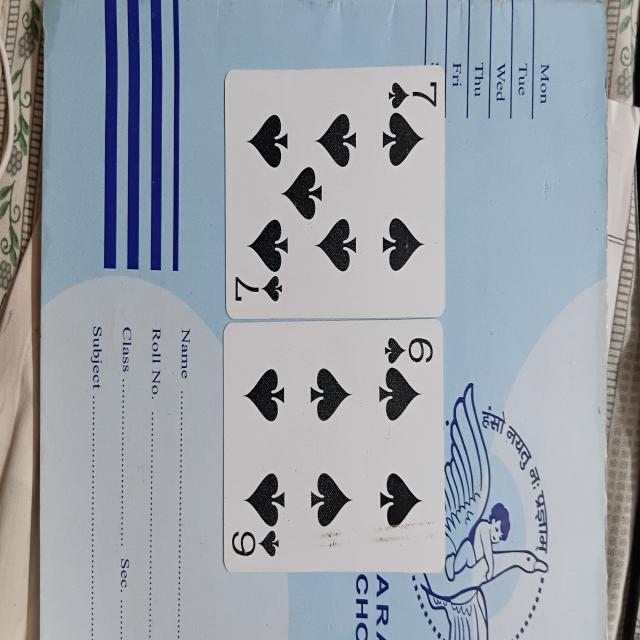6S: (224, 325, 447, 574)
7S: (228, 74, 442, 320)
